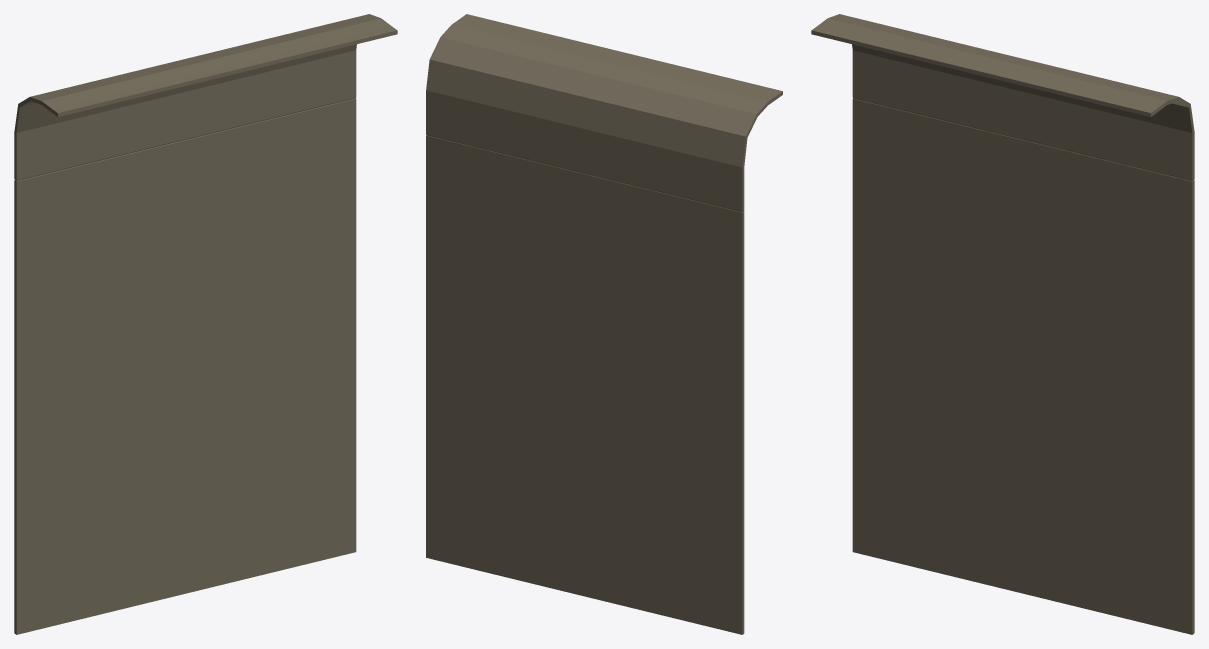
The model's file is SM_wall_ext_02.fbx.
3 renders of one model, left to right at view 1: azimuth 30°, elevation 25°; view 2: azimuth 150°, elevation 25°; view 3: azimuth 330°, elevation 25°, orthographic. The views are drawn at different scales.
Parts seen in each view (by area): view 1: wall_ext_02; view 2: wall_ext_02; view 3: wall_ext_02.
Boxes of the visible parts, x1,y1,x2,y2 form: wall_ext_02: (14, 14, 397, 634); wall_ext_02: (426, 14, 782, 634); wall_ext_02: (811, 14, 1194, 634).
Bounding box in the file's own units: 200 × 311 × 44.37.
